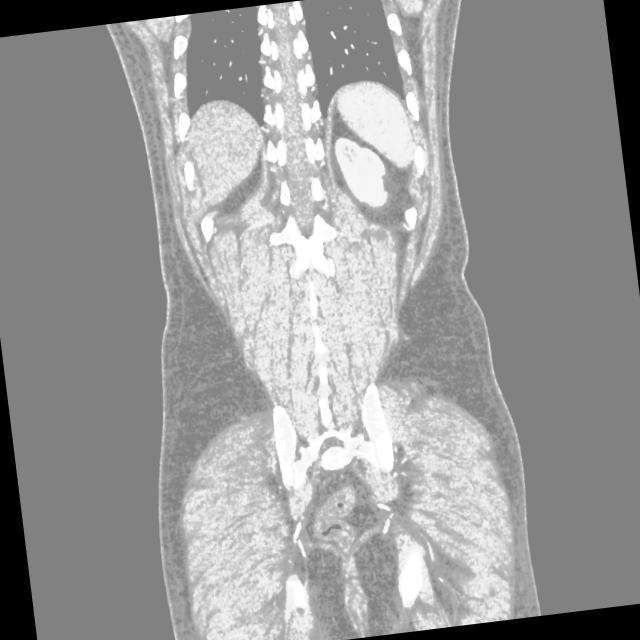NORMAL: (125, 40, 511, 418)
